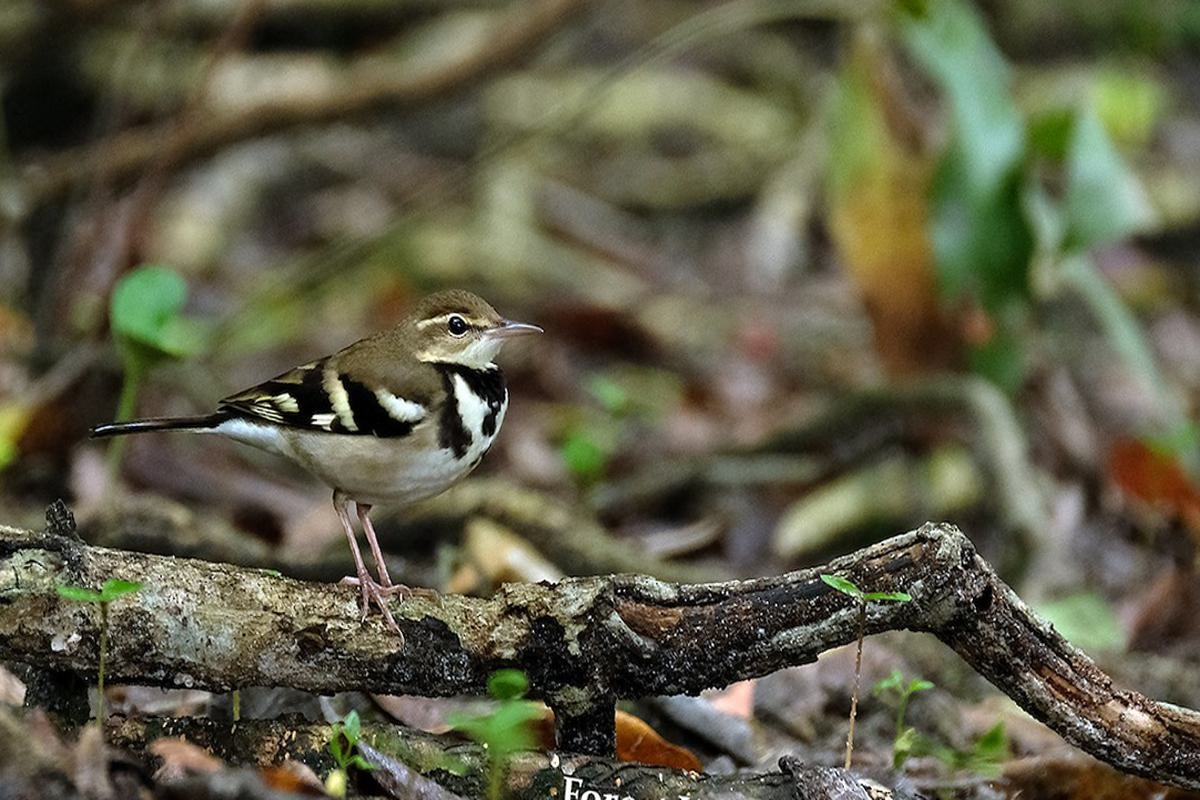wagtail: (167, 295, 530, 560)
